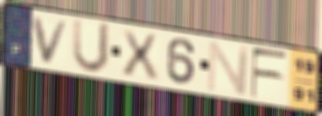6: (166, 36, 197, 87)
F: (250, 47, 290, 101)
N: (205, 40, 252, 97)
U: (70, 17, 114, 77)
V: (31, 15, 72, 66)
X: (119, 28, 162, 82)
